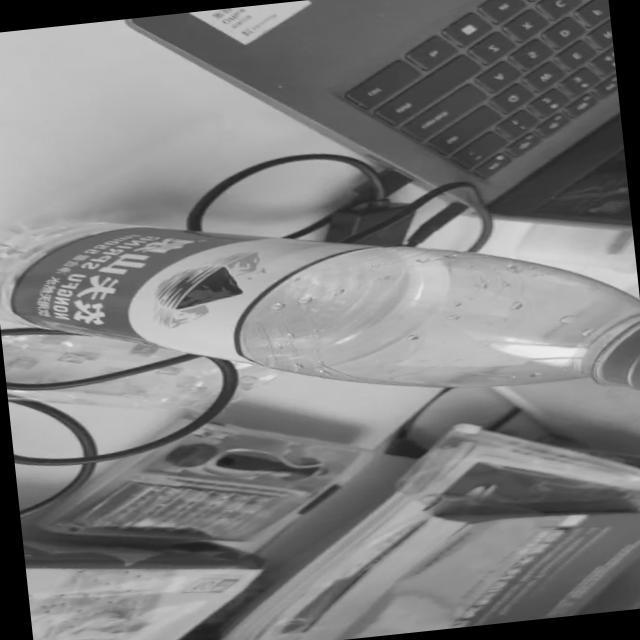good: (0, 160, 640, 455)
